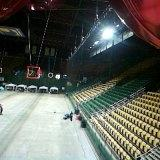Orange_Square_GShape: (26, 66, 42, 80)
Purple_Balloon: (63, 74, 68, 80)
Yellow_Circle_GShape: (48, 71, 54, 79)
